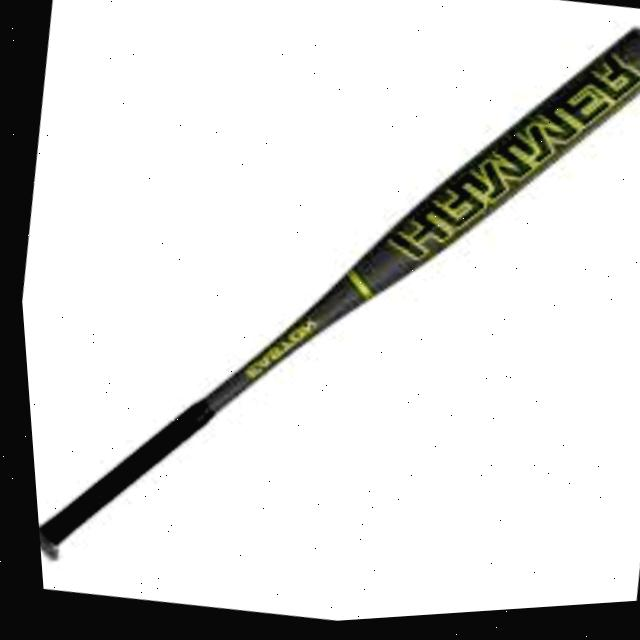baseball bat: (30, 30, 640, 562)
